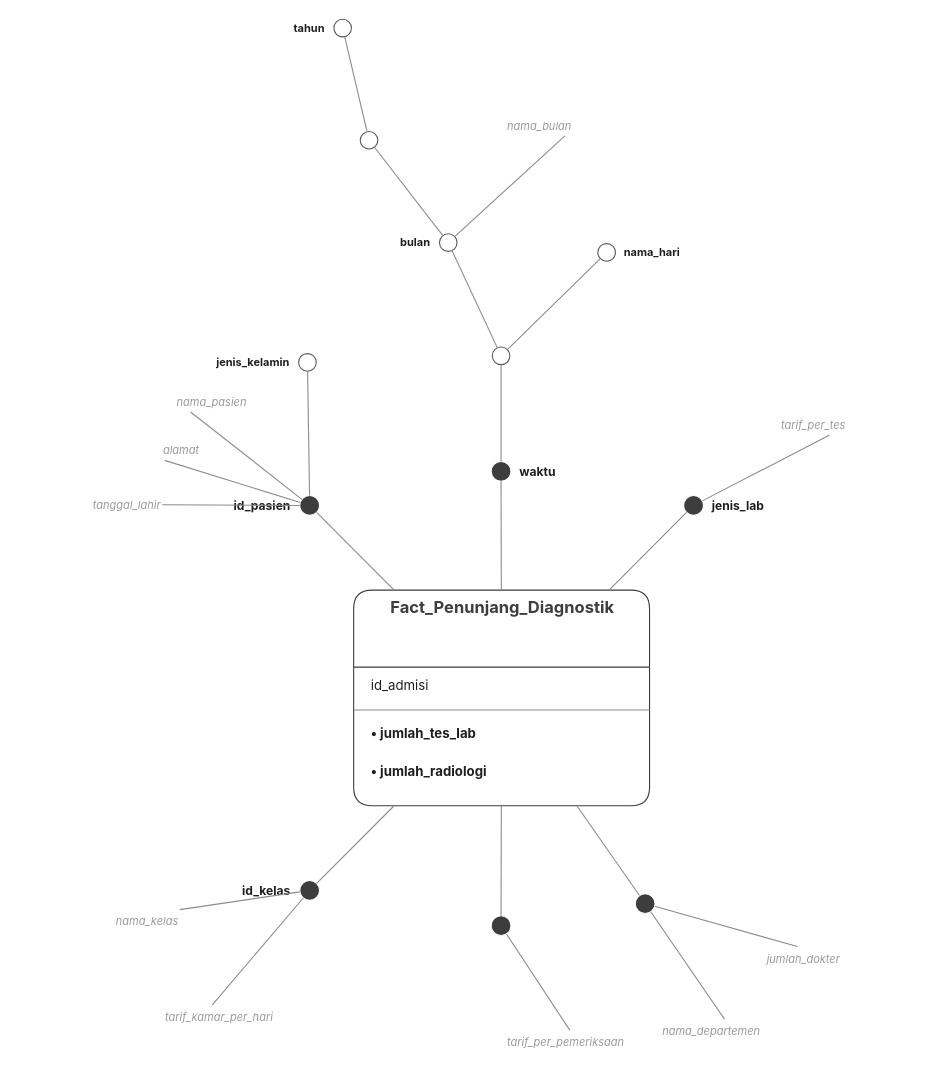
This 941x1071 diagram has some shape labels left out. Each missing label, with the centre of its shape:
"id_departemen" goes at (x=644, y=903).
"kuartal" goes at (x=368, y=139).
"modalitas_radiologi" goes at (x=500, y=925).
"tanggal" goes at (x=500, y=355).
